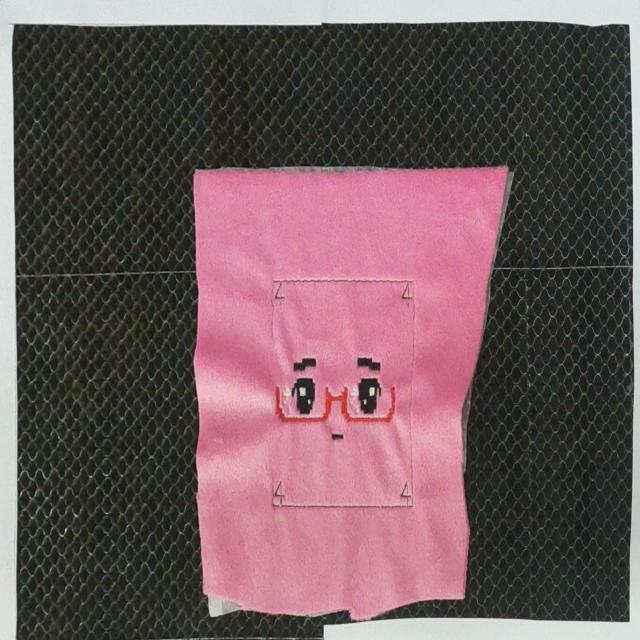4 -: (274, 474, 288, 505), (398, 479, 414, 506), (274, 280, 287, 310), (401, 284, 415, 308)
